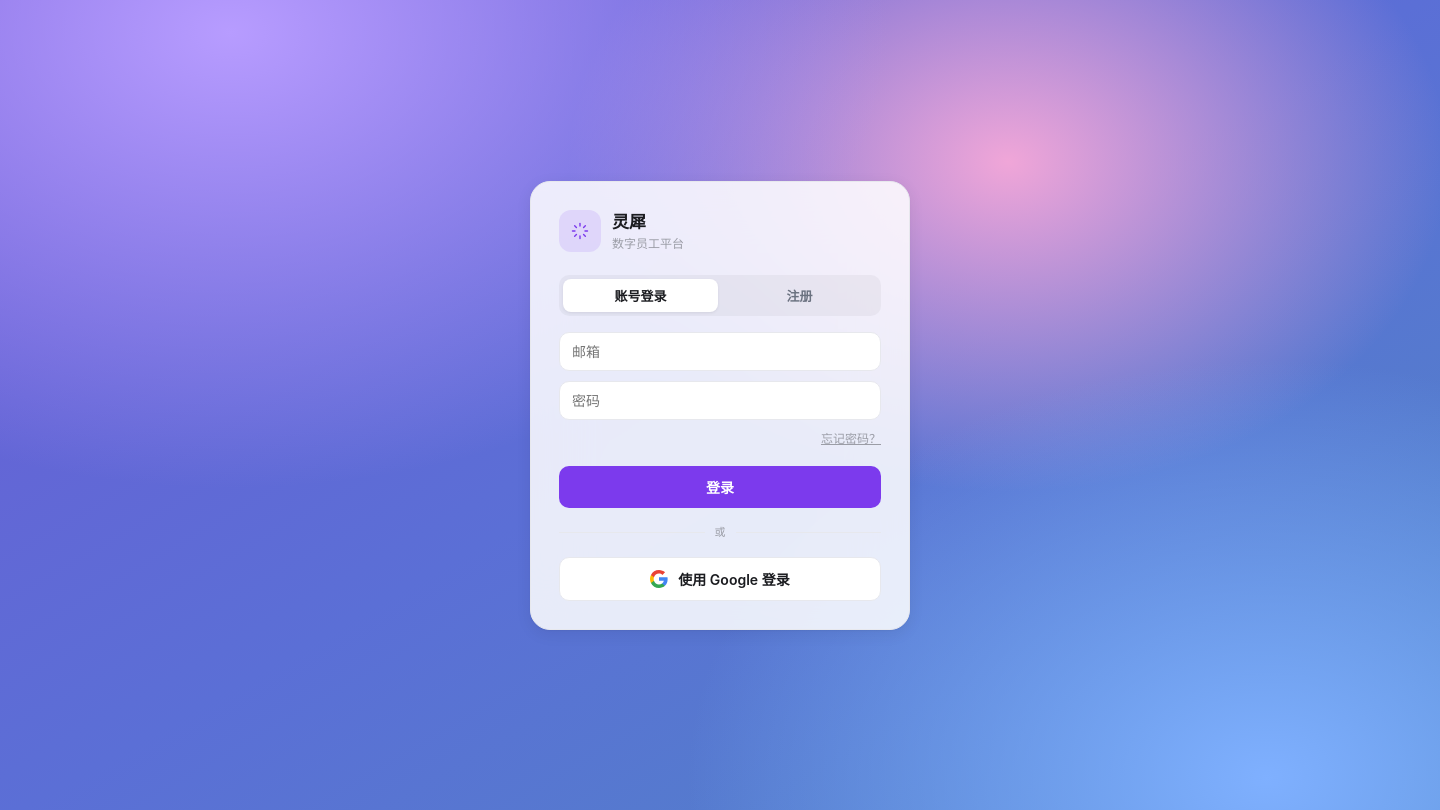
Test: LoginPage › 切到注册态: 仍是邮箱/密码,主按钮变"注册并进入"(不再要求称呼)
Click the button "注册" at (800, 296), box [722,279,877,312]
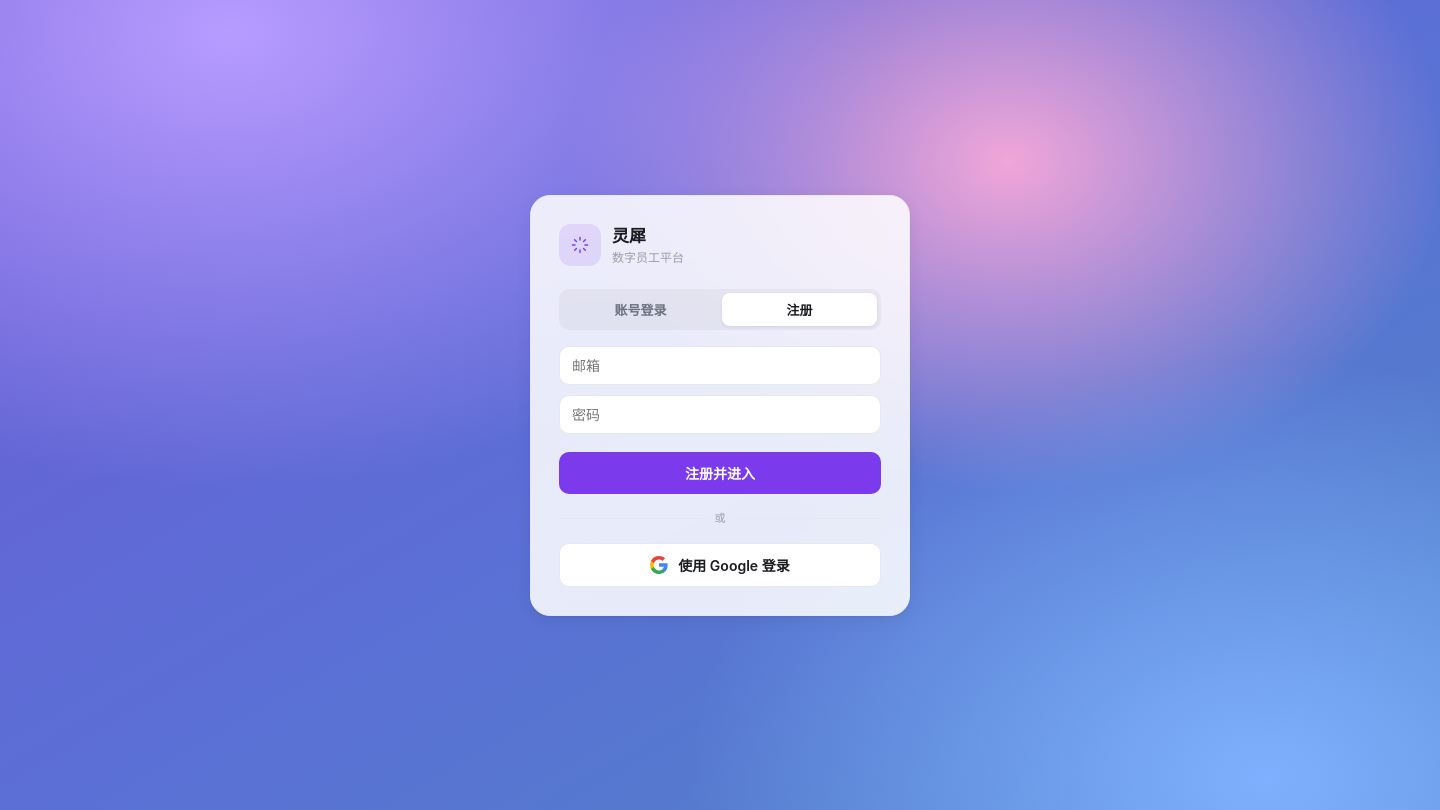
Expected: the field with placeholder "邮箱" is shown, [559,346,881,385]
Result: the button "注册并进入" is shown at [559,452,881,494]
